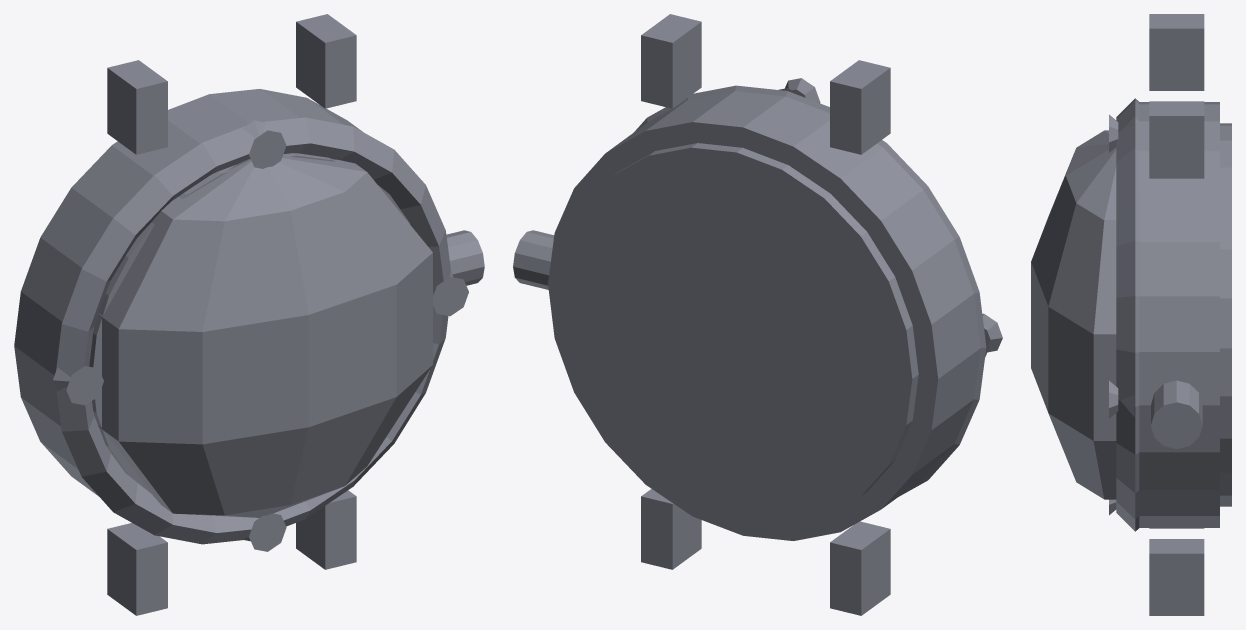
Rendered from rlj_astronomia.fbx.
3 views of the same model, side by side, from view 1: azimuth 30°, elevation 25°; view 2: azimuth 150°, elevation 25°; view 3: azimuth 270°, elevation 25° (orthographic). The views are drawn at different scales.
Visible parts, largest first — view 1: Caja__cristal_zafiro, Caja__metal_oro_pulido, Caja__metal_oro_cepillado, Caja__gema_diamante, Esfera__esmalte_cosmico; view 2: Caja__metal_oro_pulido, Caja__metal_oro_cepillado, Caja__gema_diamante; view 3: Caja__metal_oro_pulido, Caja__cristal_zafiro, Caja__metal_oro_cepillado, Caja__gema_diamante.
Part boxes in pixels (left/top/right/bottom): Caja__cristal_zafiro: left=98, top=155, right=432, bottom=517; Caja__metal_oro_pulido: left=14, top=14, right=484, bottom=615; Caja__metal_oro_cepillado: left=56, top=117, right=451, bottom=544; Caja__gema_diamante: left=53, top=120, right=468, bottom=551; Esfera__esmalte_cosmico: left=89, top=153, right=409, bottom=495; Caja__metal_oro_pulido: left=513, top=14, right=980, bottom=615; Caja__metal_oro_cepillado: left=634, top=85, right=986, bottom=496; Caja__gema_diamante: left=778, top=78, right=1002, bottom=357; Caja__metal_oro_pulido: left=1139, top=14, right=1231, bottom=615; Caja__cristal_zafiro: left=1031, top=130, right=1116, bottom=499; Caja__metal_oro_cepillado: left=1116, top=98, right=1139, bottom=531; Caja__gema_diamante: left=1109, top=114, right=1134, bottom=515.
Bounding box in the file's own units: 140 × 160 × 58.25.
